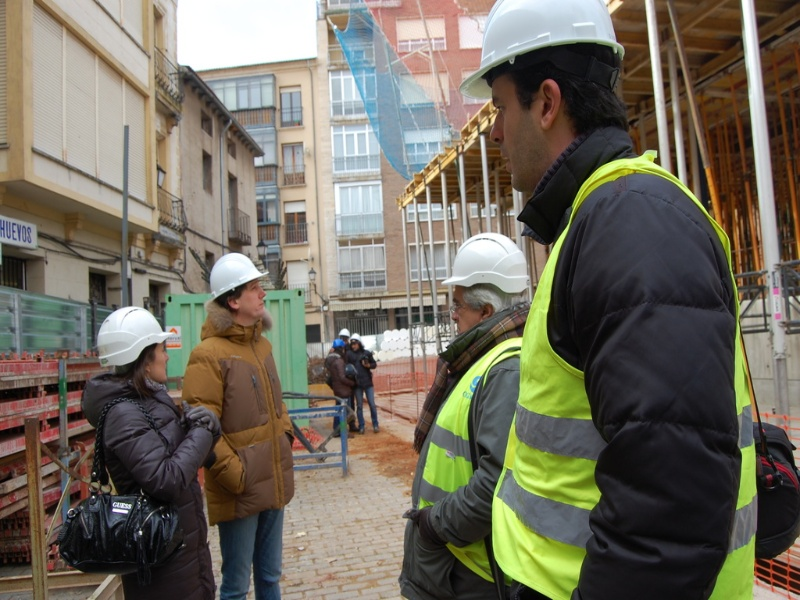Baret: (478, 1, 627, 74), (450, 231, 529, 294), (95, 305, 170, 368), (209, 254, 268, 298)
